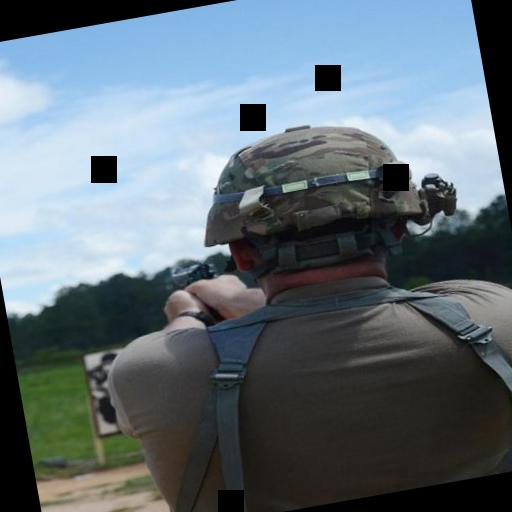Handgun: (155, 256, 220, 302)
